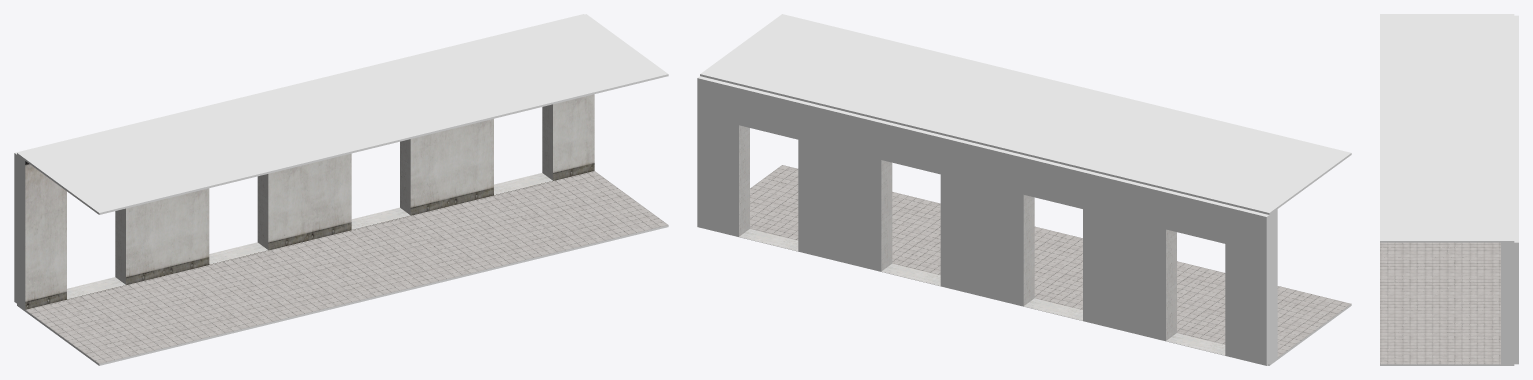
The model's file is Intro_Other_Side_D_Class.fbx.
3 views of the same model, side by side, from view 1: azimuth 30°, elevation 25°; view 2: azimuth 150°, elevation 25°; view 3: azimuth 270°, elevation 25° (orthographic). The views are drawn at different scales.
Visible parts, largest first — view 1: node_id10 (×4); view 2: node_id10 (×3); view 3: node_id10 (×2).
Boxes of the visible parts, x1,y1,x2,y2 form: node_id10 (×4): (14, 14, 668, 365); node_id10 (×3): (697, 14, 1351, 365); node_id10 (×2): (1380, 14, 1518, 365).
Bounding box in the file's own units: 0.512 × 0.1314 × 0.1323.
5 materials, 4 textured.
